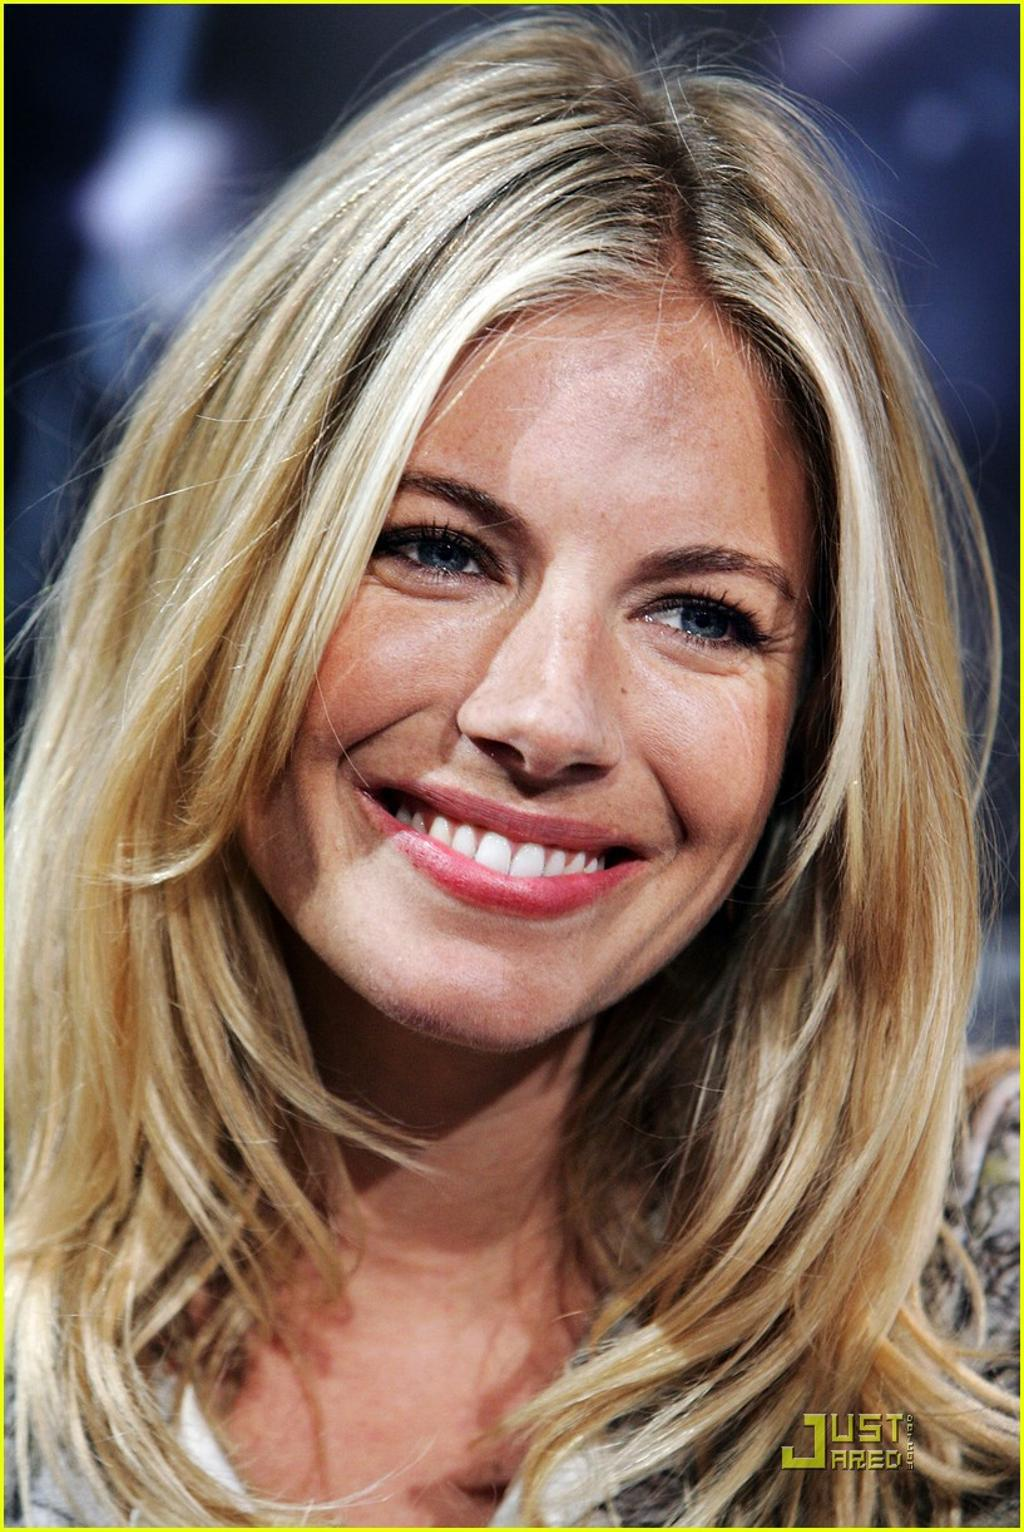face: (267, 270, 812, 1054)
